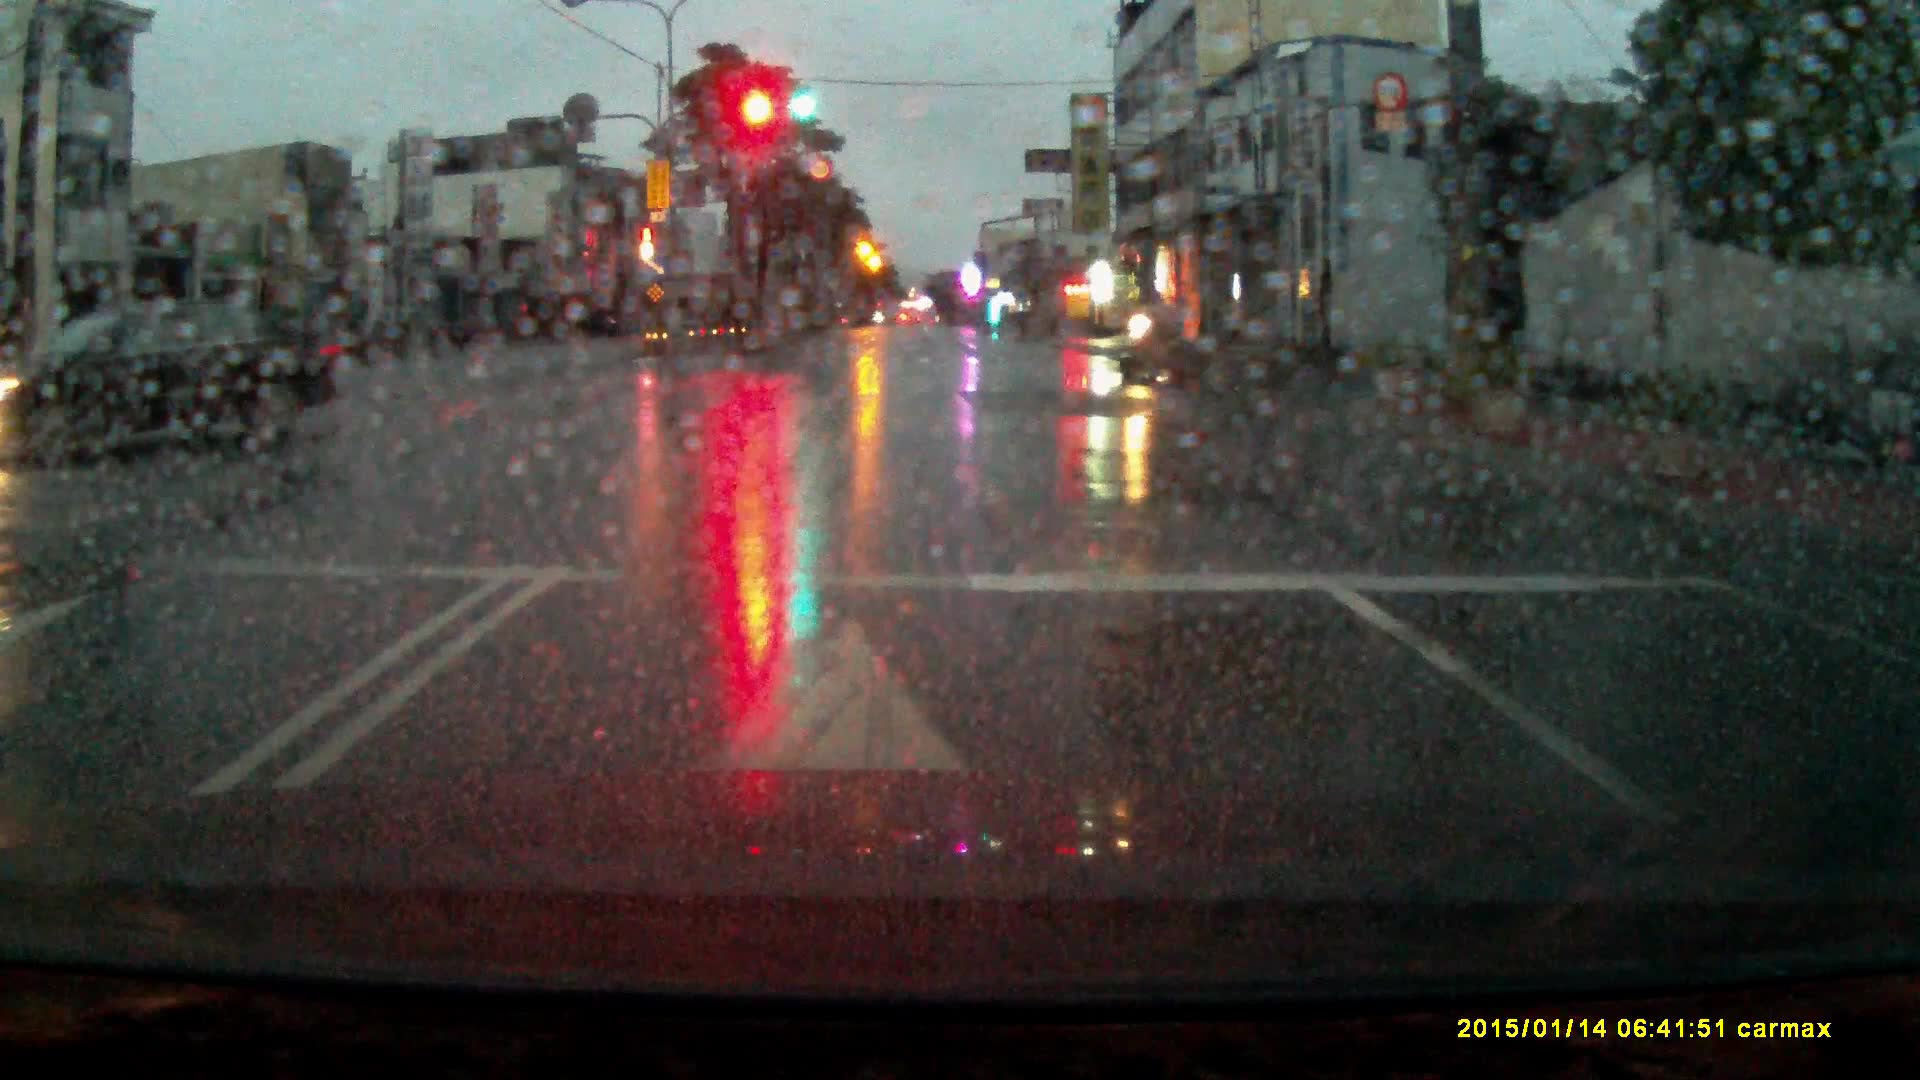rider: (1104, 284, 1190, 377)
vehicle: (1, 294, 343, 469)
